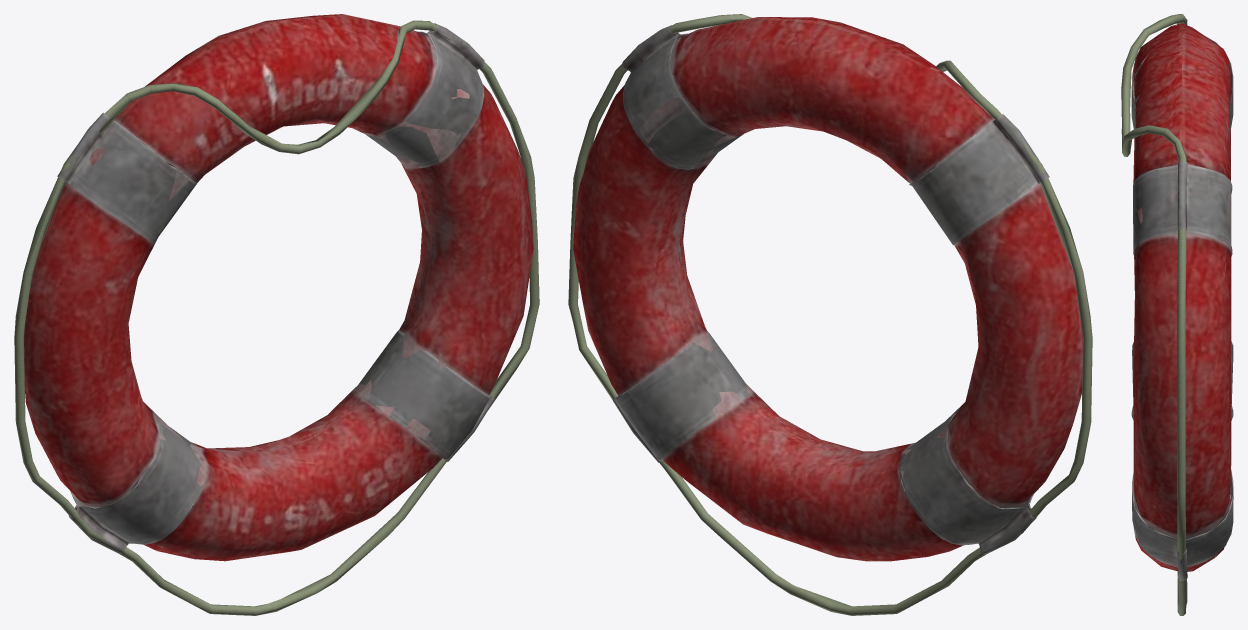
3 renders of one model, left to right at view 1: azimuth 30°, elevation 25°; view 2: azimuth 150°, elevation 25°; view 3: azimuth 270°, elevation 25°, orthographic. The views are drawn at different scales.
Visible parts, largest first — view 1: lifebuoy_lod1; view 2: lifebuoy_lod1; view 3: lifebuoy_lod1.
Part boxes in pixels (left/top/right/bottom): lifebuoy_lod1: left=14, top=14, right=539, bottom=615; lifebuoy_lod1: left=568, top=14, right=1092, bottom=615; lifebuoy_lod1: left=1121, top=14, right=1233, bottom=615.
Bounding box in the file's own units: 0.783 × 0.8412 × 0.1547.
1 material, 1 textured.
